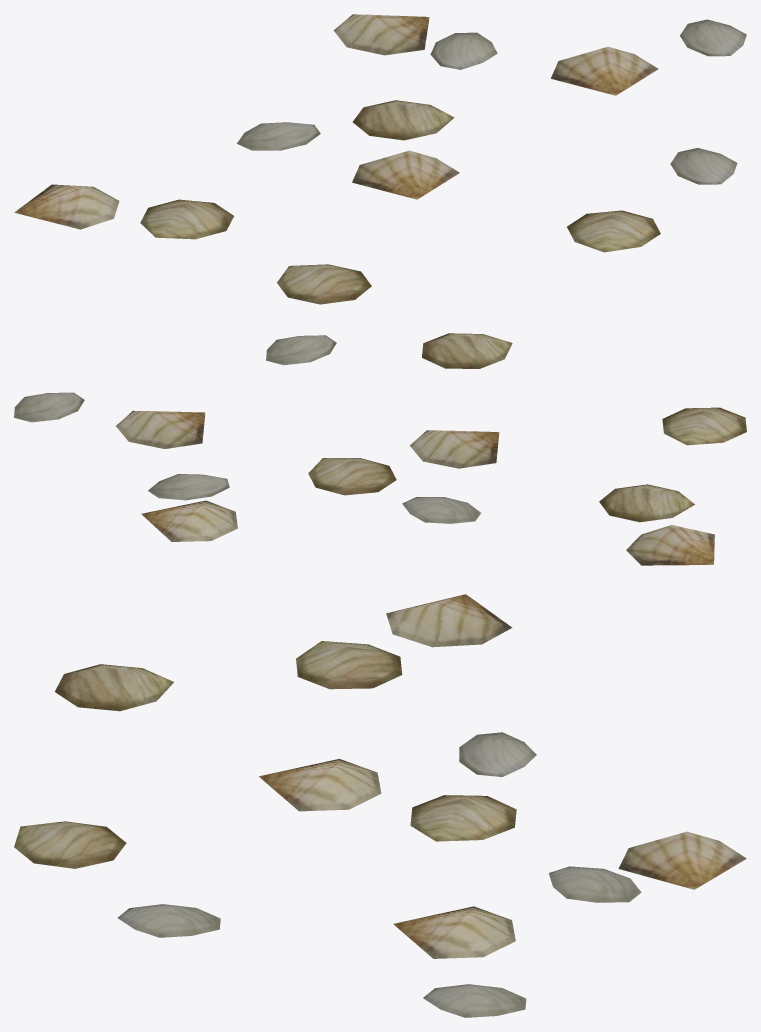
File: SC_HDbeike01.FBX
3 renders of one model, top to bottom at view 1: azimuth 30°, elevation 25°; view 2: azimuth 150°, elevation 25°; view 3: azimuth 270°, elevation 25°, orthographic. The views are drawn at different scales.
Parts seen in each view (by area): view 1: SC_HDbeike01; view 2: SC_HDbeike01; view 3: SC_HDbeike01.
Boxes of the visible parts, x1,y1,x2,y2 form: SC_HDbeike01: (14, 14, 746, 304); SC_HDbeike01: (14, 333, 746, 565); SC_HDbeike01: (14, 594, 746, 1017).
Bounding box in the file's own units: 1.94 × 0.0514 × 1.42.
